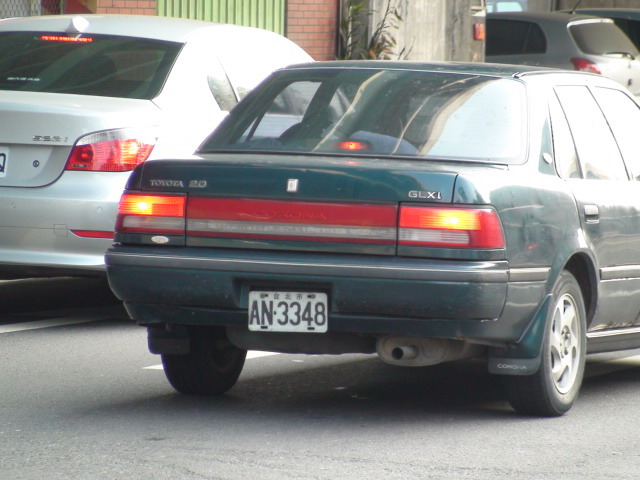plate: (247, 286, 330, 339)
